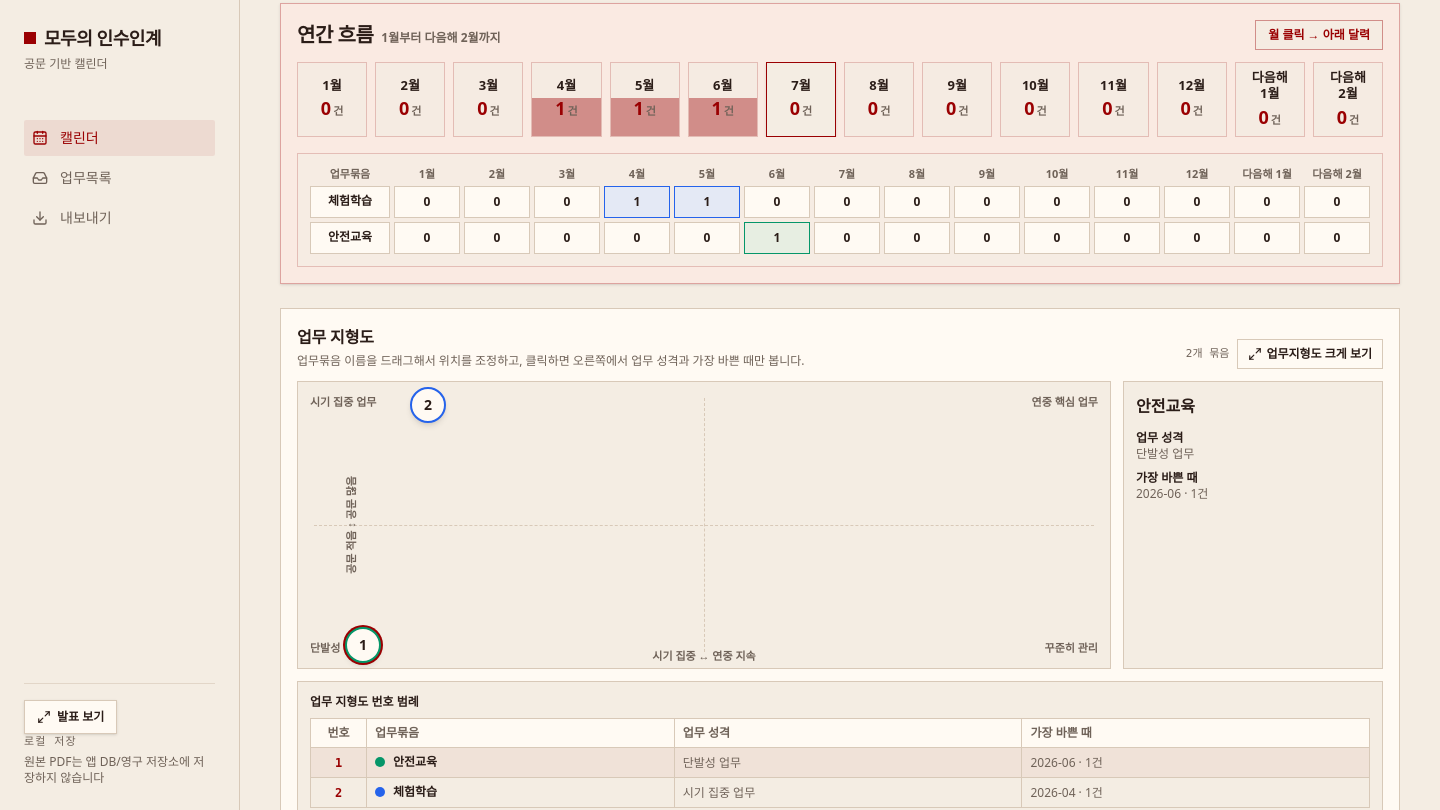
it: team-handoff frontend replacement › opens the right-side quadrant detail for a clicked bundle
(page scrolled)
Click the button named "체험학습 업무 지형도 업무묶음". click: (428,405)
box: [410, 387, 446, 423]
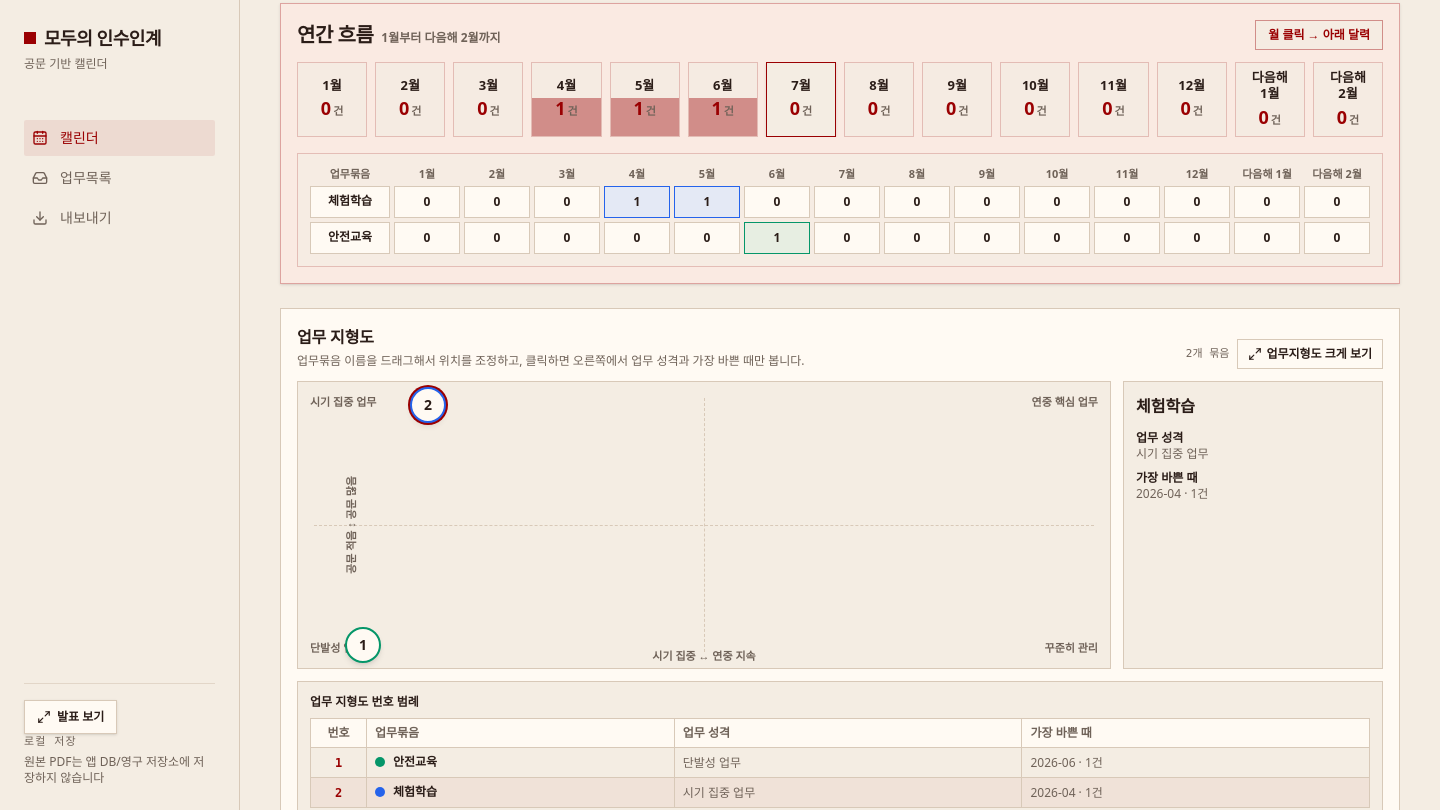
Check: the text "업무 성격" is shown, box [1136, 429, 1183, 446]
Check: the text "체험학습" next to "연중 핵심 업무" is shown, box [1136, 395, 1195, 417]
